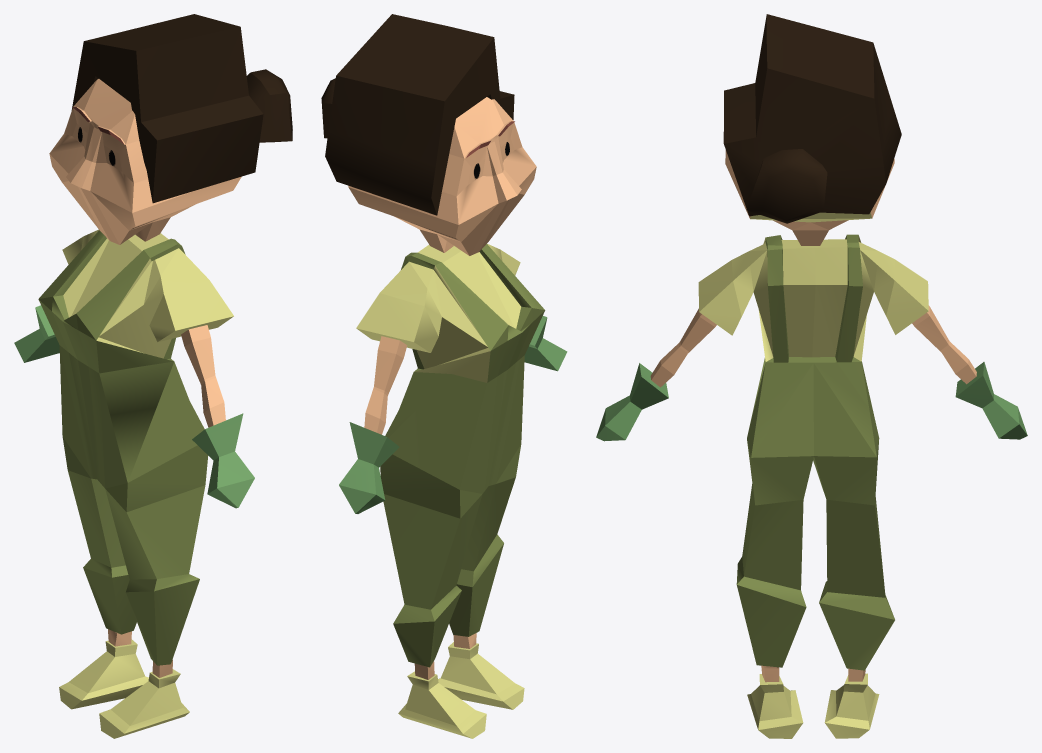
The model's file is C-women+hair.FBX.
3 views of the same model, side by side, from view 1: azimuth 30°, elevation 25°; view 2: azimuth 150°, elevation 25°; view 3: azimuth 270°, elevation 25° (orthographic). The views are drawn at different scales.
Parts seen in each view (by area): view 1: Women ch, RetopoGroup1; view 2: Women ch, RetopoGroup1; view 3: Women ch, RetopoGroup1.
Part boxes in pixels (bbox=[...]): Women ch: bbox=[14, 79, 254, 738]; RetopoGroup1: bbox=[71, 14, 292, 203]; Women ch: bbox=[339, 97, 567, 738]; RetopoGroup1: bbox=[321, 14, 514, 215]; Women ch: bbox=[596, 150, 1027, 738]; RetopoGroup1: bbox=[723, 14, 901, 223].
Bounding box in the file's own units: 1.52 × 4.65 × 2.6.
